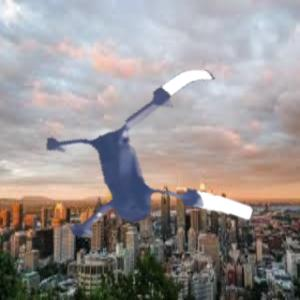drone: (24, 52, 271, 299)
